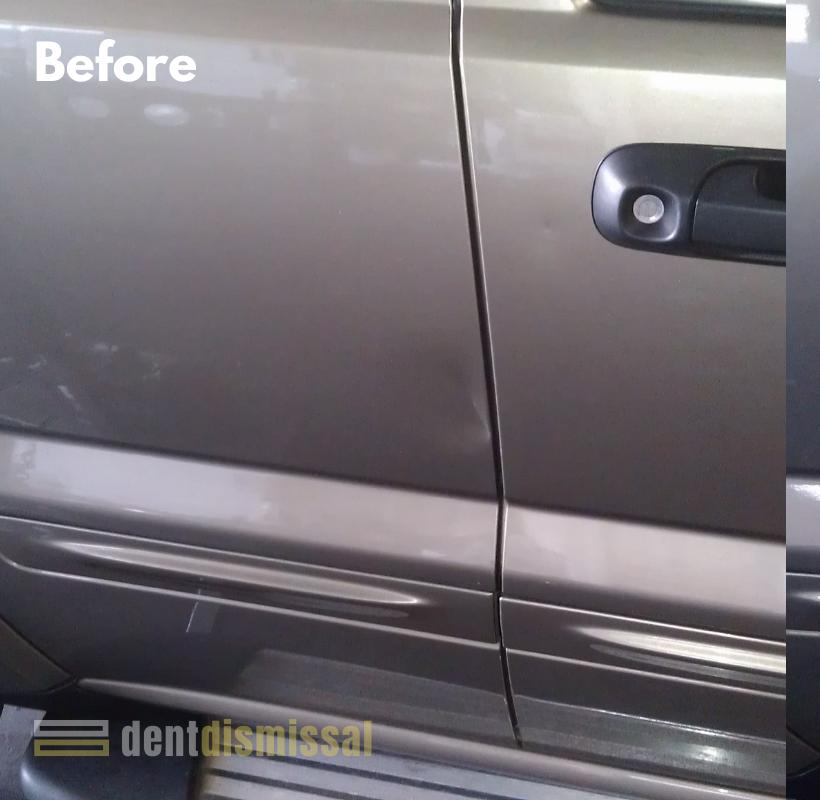dent: (398, 348, 502, 482)
